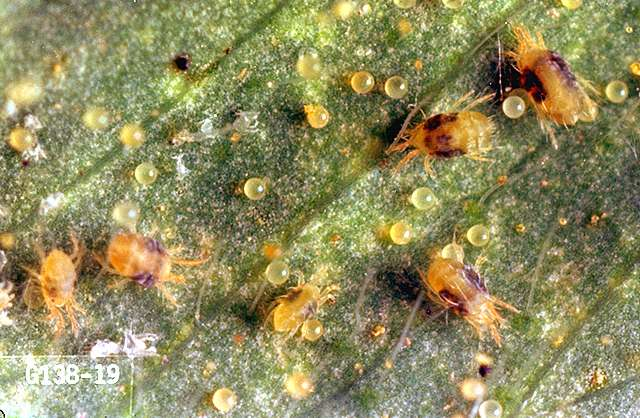Mites: (388, 90, 502, 177), (98, 216, 202, 301), (411, 242, 500, 341), (510, 42, 582, 136), (258, 274, 342, 328), (30, 235, 85, 315)
